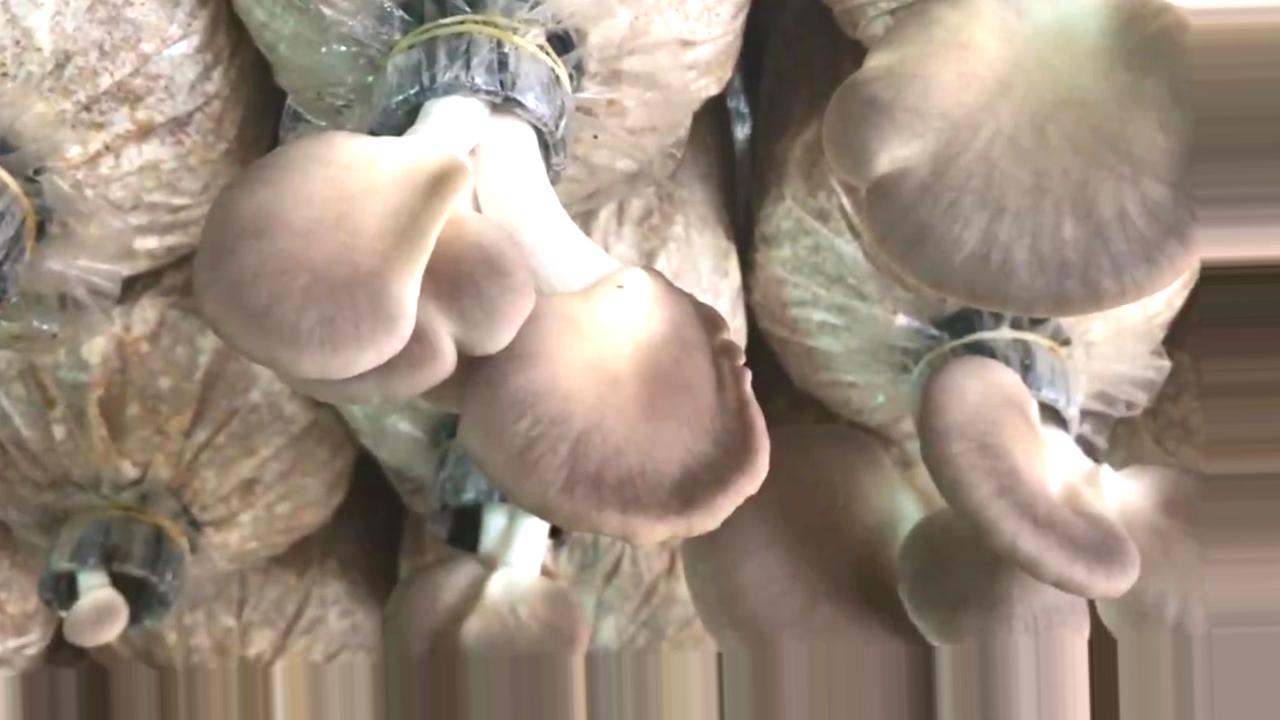nam: (200, 24, 771, 542), (684, 338, 1280, 717), (820, 1, 1280, 320), (388, 450, 590, 720), (38, 514, 172, 646)
